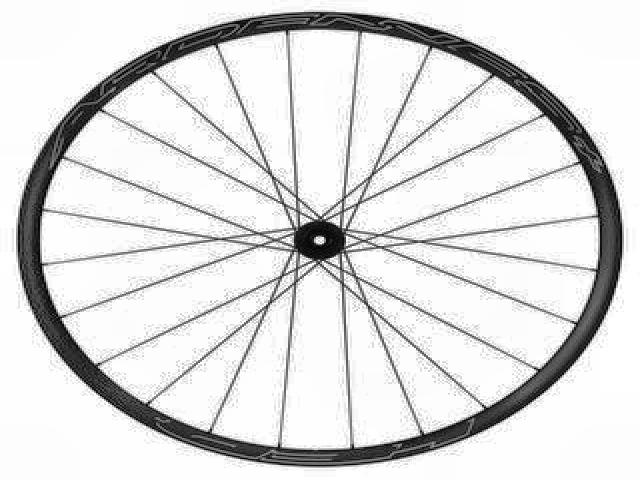wheel: (12, 7, 624, 470)
